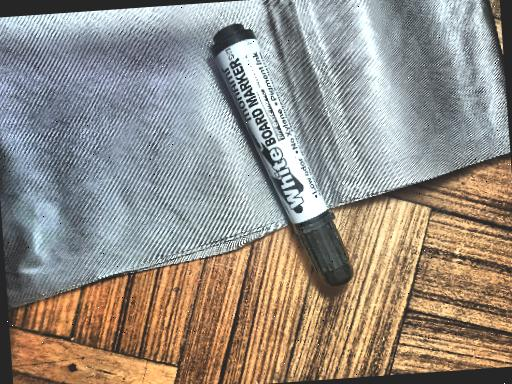marcador negro: (211, 24, 353, 287)
